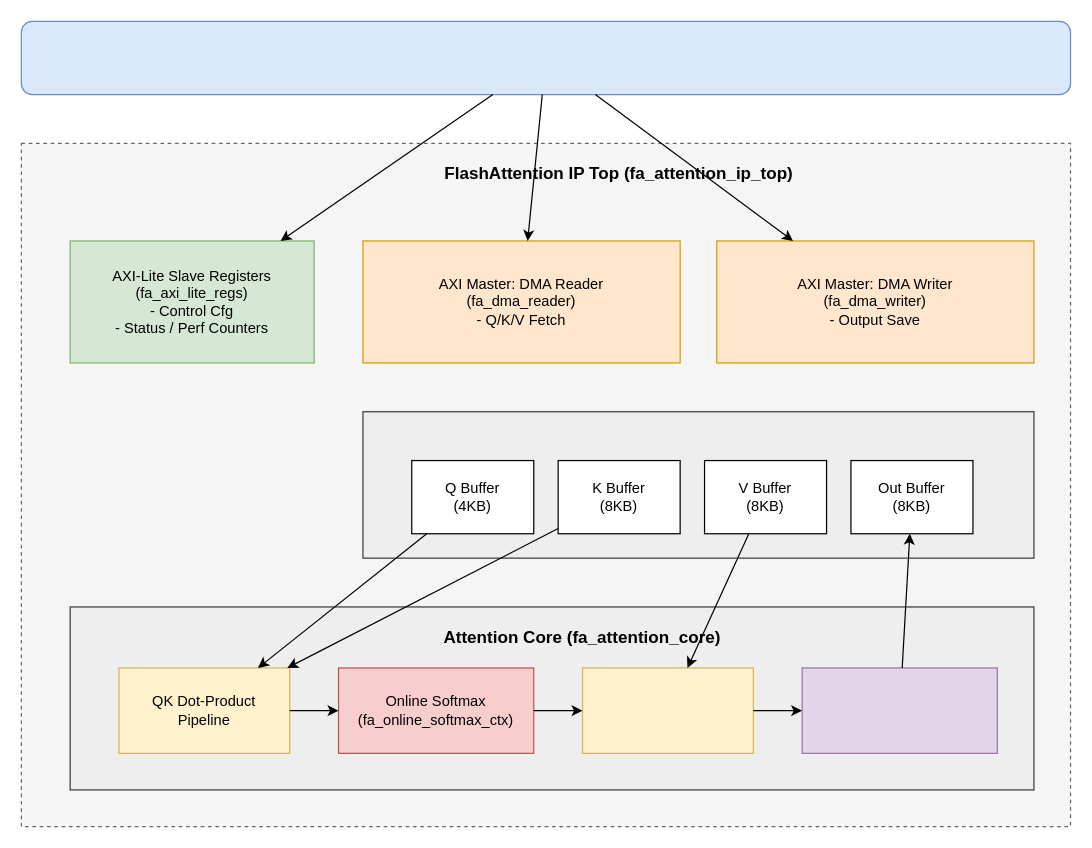
Image size: 1092x848. Some labels were removed from this diagram. The box of each missing label's shape, as (x1, y1, x2, y2) in pixels:
Host CPU / System SoC: (20, 20, 1071, 95)
Output Norm & Saturation: (801, 667, 997, 753)
PV Dot-Product Pipeline: (581, 667, 753, 753)
SRAM / Tile Buffers: (362, 411, 1034, 558)
